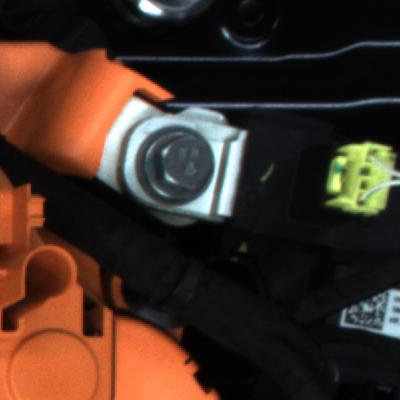nut_b: (133, 121, 224, 211)
